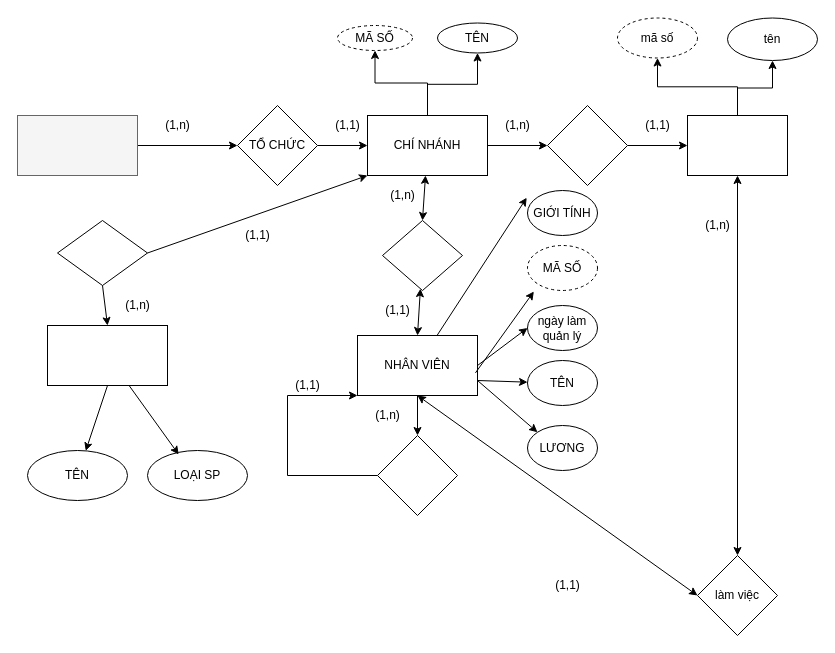
This 835x653 diagram has some shape labels left out. The shapes that lost their labels are listed below. From the top down, each one's centre as x and y in pixels, then its label:
At (x=77, y=145): "CÔNG TY".
At (x=587, y=145): "XỬ LÝ".
At (x=737, y=145): "KHÁCH HÀNG".
At (x=102, y=253): "CẤP SẢN PHẨM".
At (x=422, y=255): "QUẢN LÝ".
At (x=107, y=355): "NHÀ CUNG CẤP".
At (x=417, y=475): "GIÁM SÁT".
